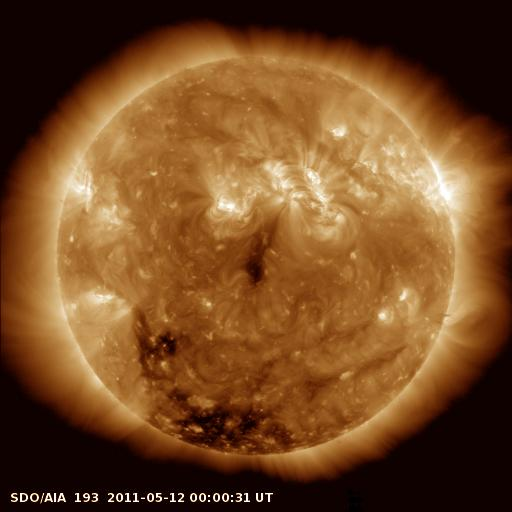coronal_hole: (153, 388, 293, 457), (129, 311, 185, 380), (243, 247, 273, 289)
